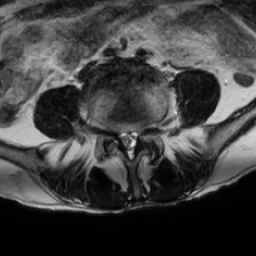CCS_normal: (125, 124, 133, 164)
LFS_severe_stenosis: (141, 120, 148, 138)
LLS_normal: (133, 125, 140, 149)
RFS_severe_stenosis: (109, 120, 117, 145)
RLS_normal: (117, 126, 125, 150)
